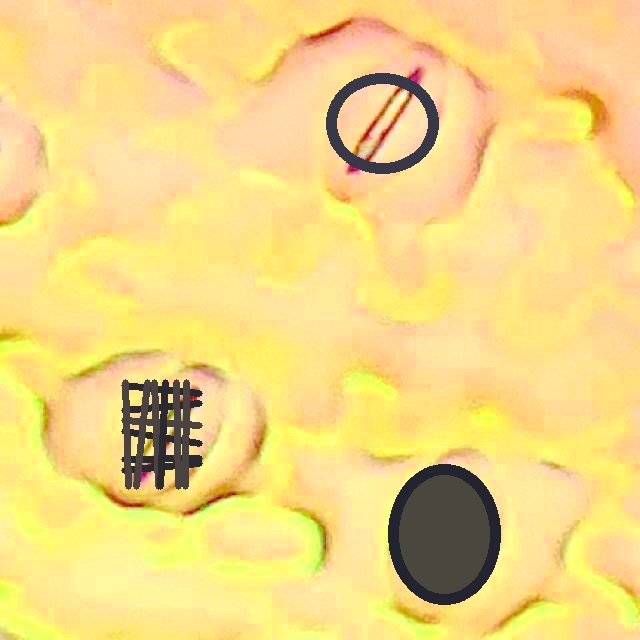open: (388, 465, 499, 604), (326, 74, 438, 172), (121, 379, 202, 489)
